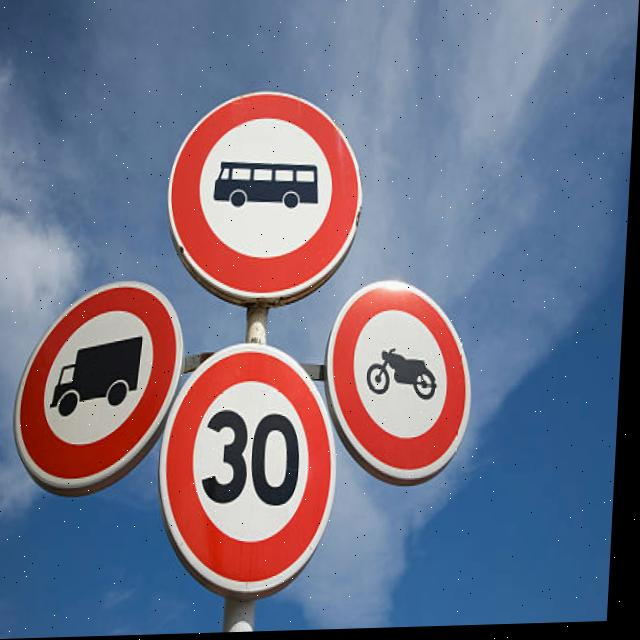Speed limit 30: (157, 341, 350, 604)
